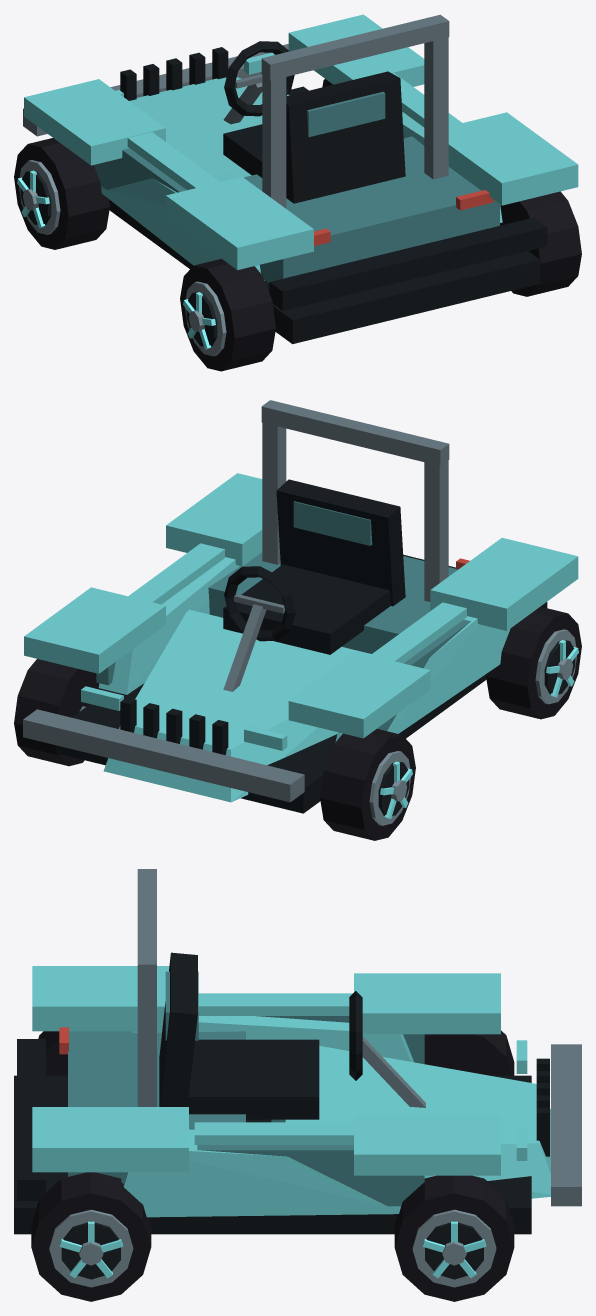
File: kart.glb
3 renders of one model, top to bottom at view 1: azimuth 30°, elevation 25°; view 2: azimuth 150°, elevation 25°; view 3: azimuth 270°, elevation 25°, orthographic. The views are drawn at different scales.
Visible parts, largest first — view 1: chassis, wheel-rear-left, wheel-front-left, wheel-rear-right; view 2: chassis, wheel-front-left, wheel-rear-left, wheel-front-right; view 3: chassis, wheel-front-right, wheel-rear-right, wheel-front-left, wheel-rear-left.
Part boxes in pixels (<box>): chassis: <box>23,14,578,344</box>; wheel-rear-left: <box>180,259,275,371</box>; wheel-front-left: <box>14,138,109,249</box>; wheel-rear-right: <box>500,191,581,296</box>; chassis: <box>23,400,578,813</box>; wheel-front-left: <box>320,729,415,840</box>; wheel-rear-left: <box>486,606,581,719</box>; wheel-front-right: <box>14,659,108,766</box>; chassis: <box>14,869,581,1234</box>; wheel-front-right: <box>394,1175,514,1301</box>; wheel-rear-right: <box>31,1172,151,1301</box>; wheel-front-left: <box>424,1030,514,1075</box>; wheel-rear-left: <box>38,1031,67,1075</box>.
Bounding box in the file's own units: 2.44 × 1.67 × 2.94.
